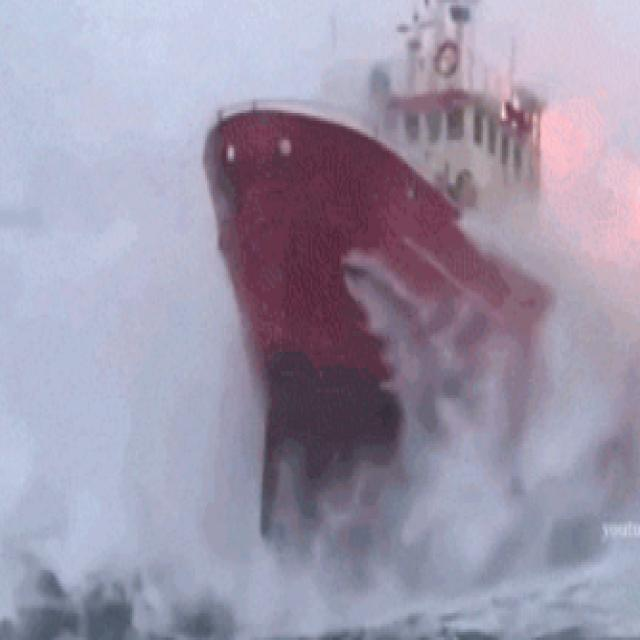cargoship: (216, 0, 640, 559)
